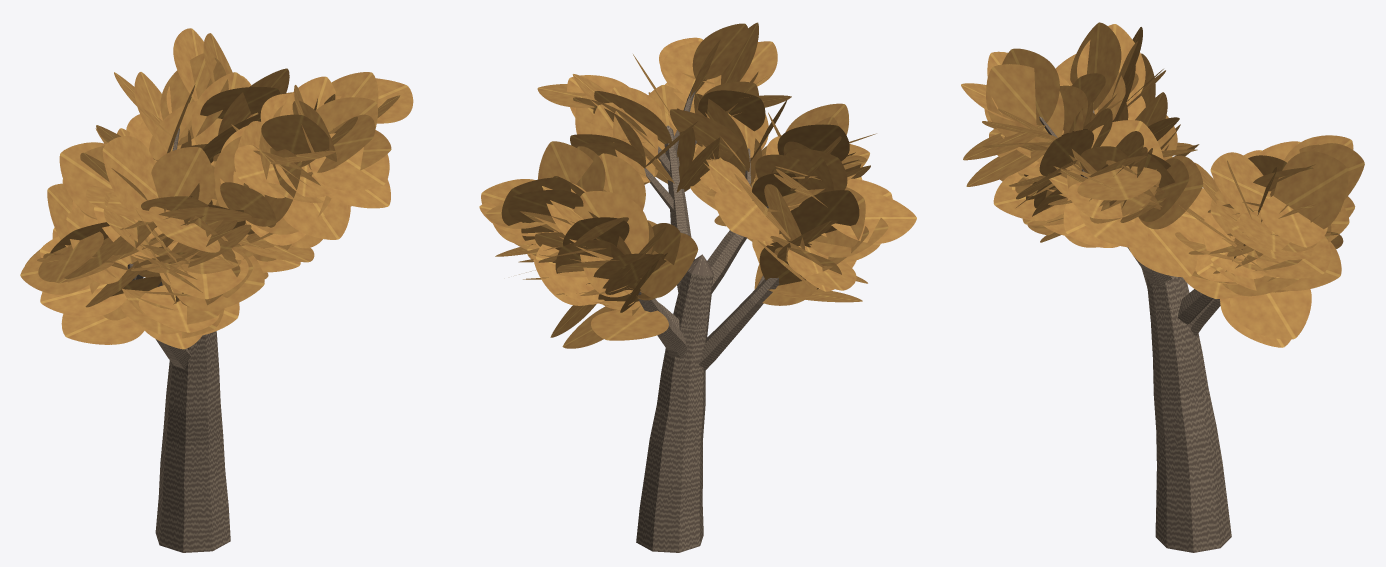
File: 활엽수_가을.fbx
The picture shows the model from 3 angles, left to right: view 1: azimuth 30°, elevation 25°; view 2: azimuth 150°, elevation 25°; view 3: azimuth 270°, elevation 25°; orthographic projection. The views are drawn at different scales.
Parts seen in each view (by area): view 1: 활엽수_가을; view 2: 활엽수_가을; view 3: 활엽수_가을.
Boxes of the visible parts, bbox=[...] form: 활엽수_가을: bbox=[20, 28, 413, 552]; 활엽수_가을: bbox=[479, 22, 916, 552]; 활엽수_가을: bbox=[961, 22, 1364, 552].
Bounding box in the file's own units: 6637 × 8026 × 5977.
